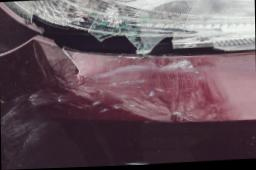Bumper: (0, 36, 256, 170)
Light: (1, 0, 256, 58)
